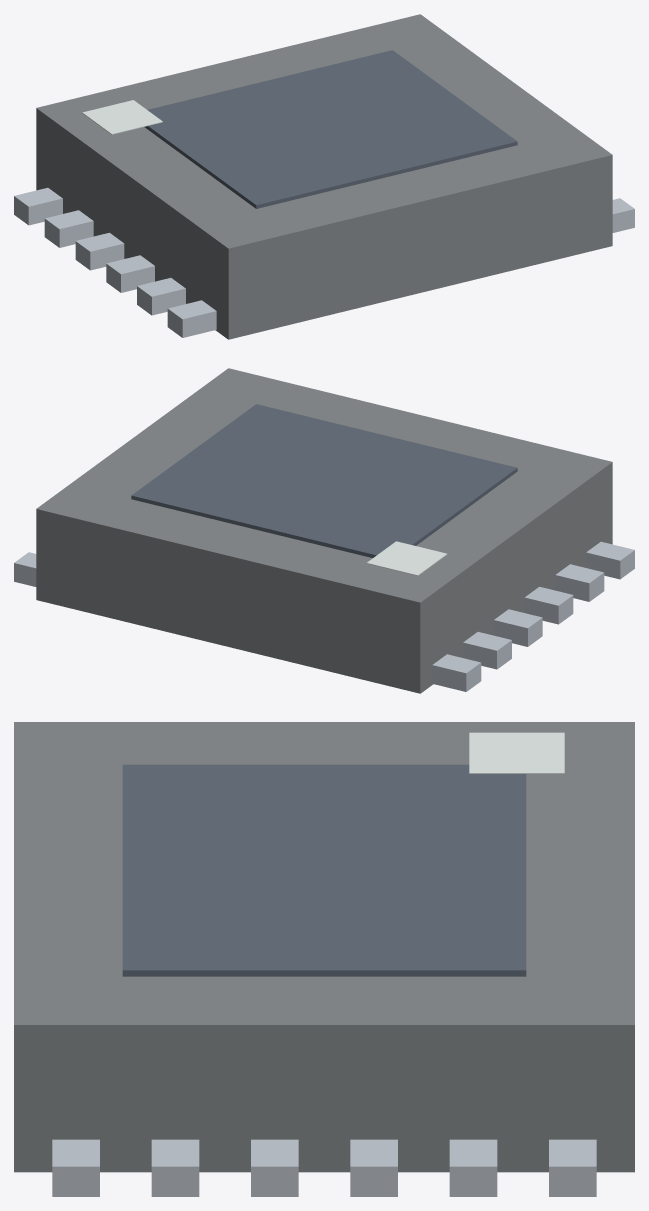
3 views of the same model, one above another, from view 1: azimuth 30°, elevation 25°; view 2: azimuth 150°, elevation 25°; view 3: azimuth 270°, elevation 25° (orthographic). The views are drawn at different scales.
Visible parts, largest first — view 1: 023_L123_U23__PSMAT__graphite, 023_L123_U23__PSMAT__chip, 023_L123_U23__PSMAT__tin, 023_L123_U23__PSMAT__silkscreen; view 2: 023_L123_U23__PSMAT__graphite, 023_L123_U23__PSMAT__chip, 023_L123_U23__PSMAT__tin, 023_L123_U23__PSMAT__silkscreen; view 3: 023_L123_U23__PSMAT__graphite, 023_L123_U23__PSMAT__chip, 023_L123_U23__PSMAT__tin, 023_L123_U23__PSMAT__silkscreen.
Part boxes in pixels (bbox=[...]): 023_L123_U23__PSMAT__graphite: bbox=[36, 14, 612, 339]; 023_L123_U23__PSMAT__chip: bbox=[144, 50, 517, 208]; 023_L123_U23__PSMAT__tin: bbox=[14, 187, 634, 337]; 023_L123_U23__PSMAT__silkscreen: bbox=[82, 100, 162, 134]; 023_L123_U23__PSMAT__graphite: bbox=[36, 368, 612, 693]; 023_L123_U23__PSMAT__chip: bbox=[131, 404, 517, 557]; 023_L123_U23__PSMAT__tin: bbox=[14, 541, 634, 691]; 023_L123_U23__PSMAT__silkscreen: bbox=[366, 541, 447, 575]; 023_L123_U23__PSMAT__graphite: bbox=[14, 722, 634, 1172]; 023_L123_U23__PSMAT__chip: bbox=[122, 764, 526, 976]; 023_L123_U23__PSMAT__tin: bbox=[52, 1139, 596, 1196]; 023_L123_U23__PSMAT__silkscreen: bbox=[469, 732, 564, 773].
Size of the model in its own units: 0.0177 by 0.0036 by 0.013.
